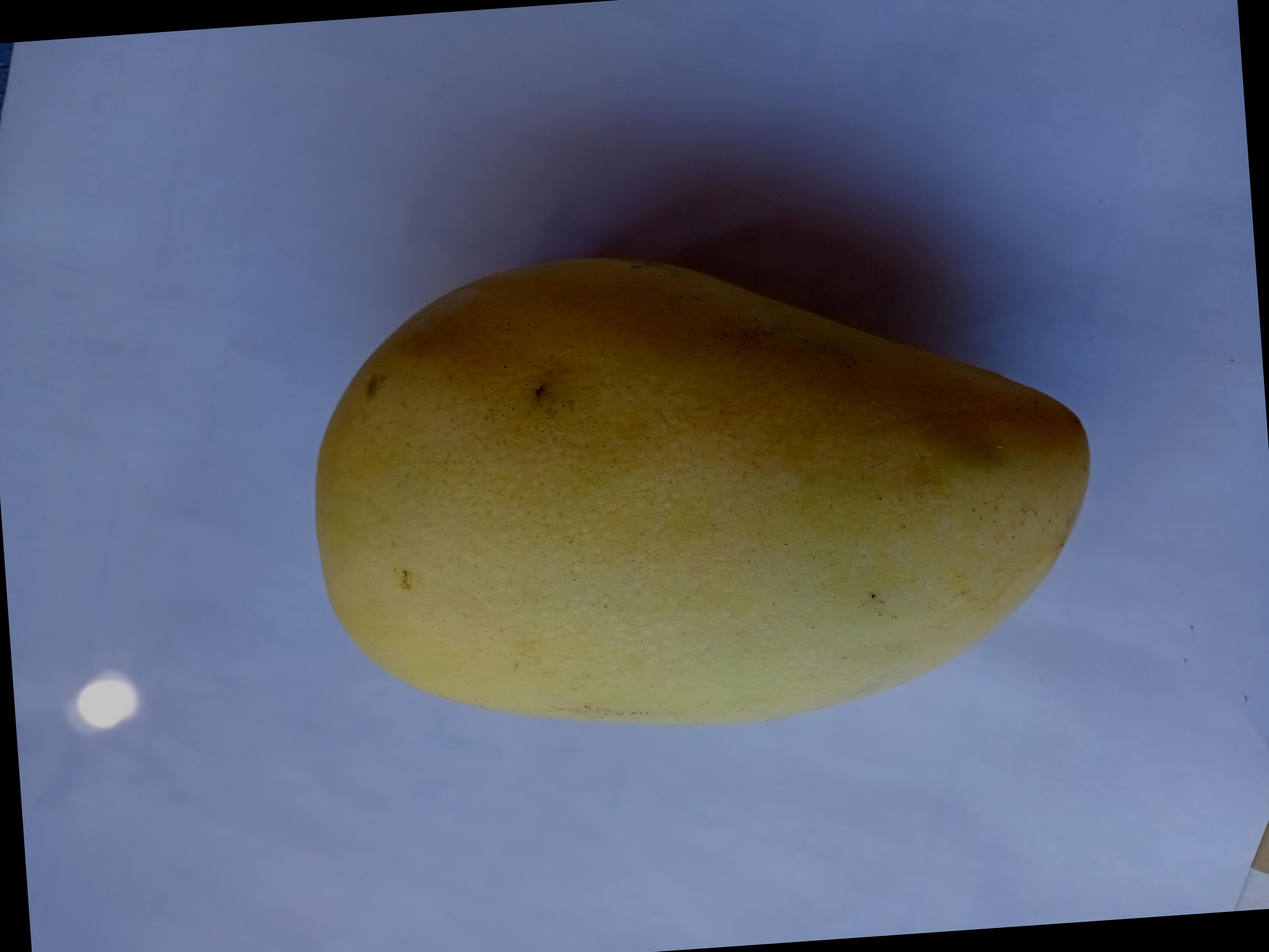Mango Ripe: (157, 218, 1115, 897)
